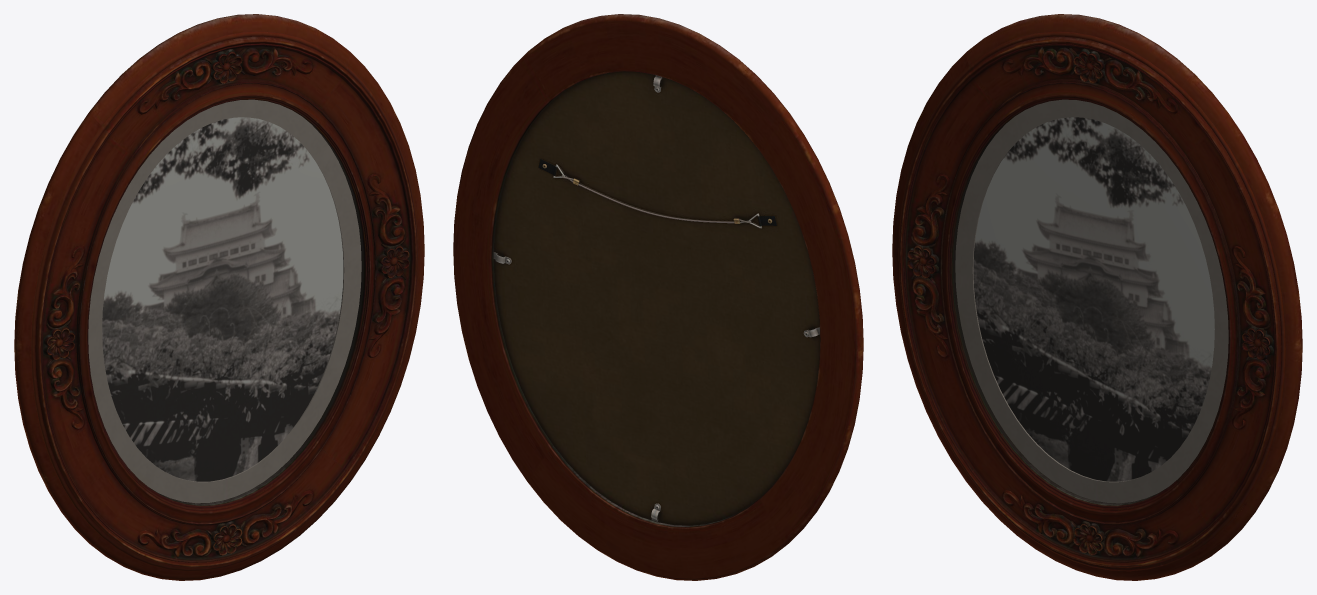
File: hanging_picture_frame_03.glb
3 views of the same model, side by side, from view 1: azimuth 30°, elevation 25°; view 2: azimuth 150°, elevation 25°; view 3: azimuth 330°, elevation 25° (orthographic).
Visible parts, largest first — view 1: hanging_picture_frame_03, hanging_picture_frame_03_glass; view 2: hanging_picture_frame_03; view 3: hanging_picture_frame_03, hanging_picture_frame_03_glass.
Boxes of the visible parts, left/top/right/bottom form: hanging_picture_frame_03: left=14, top=14, right=424, bottom=580; hanging_picture_frame_03_glass: left=88, top=100, right=363, bottom=504; hanging_picture_frame_03: left=453, top=14, right=863, bottom=580; hanging_picture_frame_03: left=892, top=14, right=1302, bottom=580; hanging_picture_frame_03_glass: left=953, top=100, right=1228, bottom=504.
Size of the model in its own units: 0.385 by 0.5024 by 0.0318.
3 materials, 2 textured.
